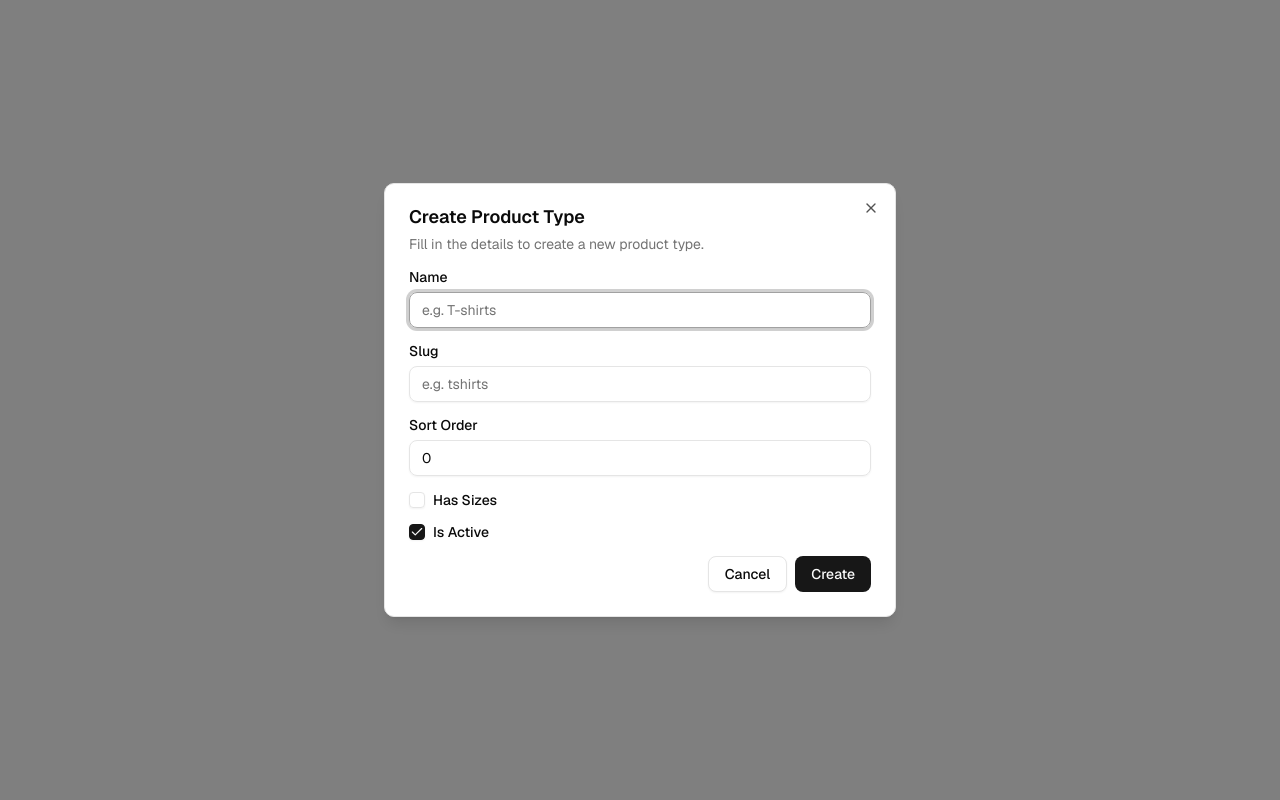
Scenario: ProductTypeFormDialog › Create mode › should validate required name field
This screenshot has width=1280, height=800.
Type "test-slug" into the field labelled "Slug".
click(640, 384); type("test-slug")  # box [409,366,871,402]
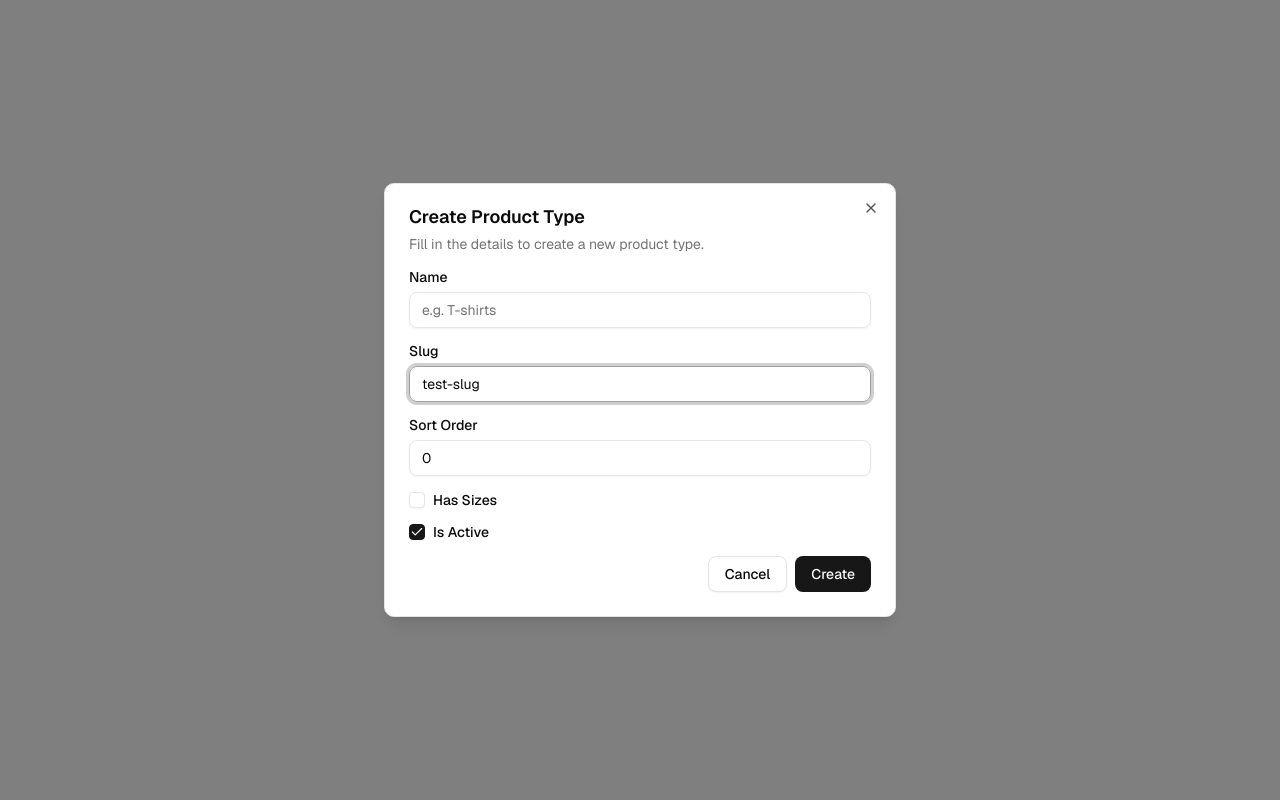
Click the button "Create".
click(833, 574)  # box [795,556,871,592]
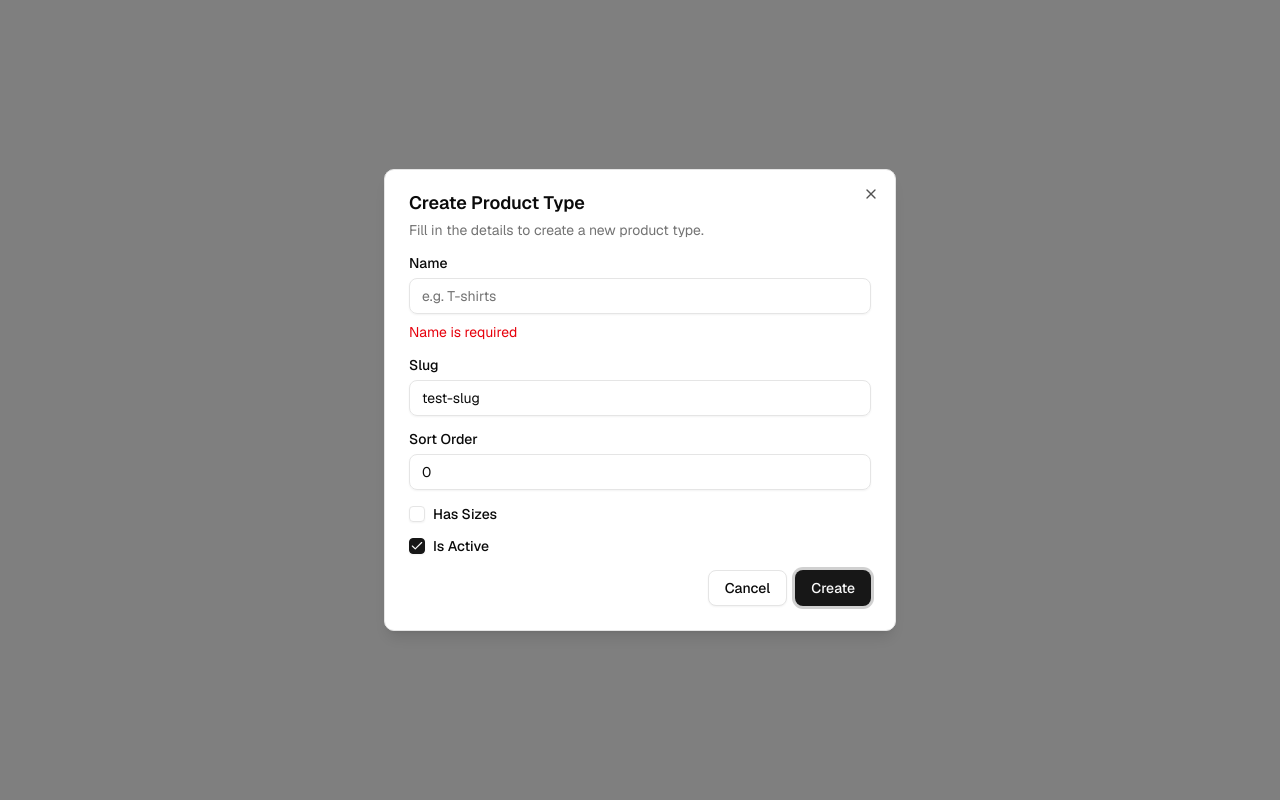
Expected: the text "Name is required" is shown, [409,323,517,341]
